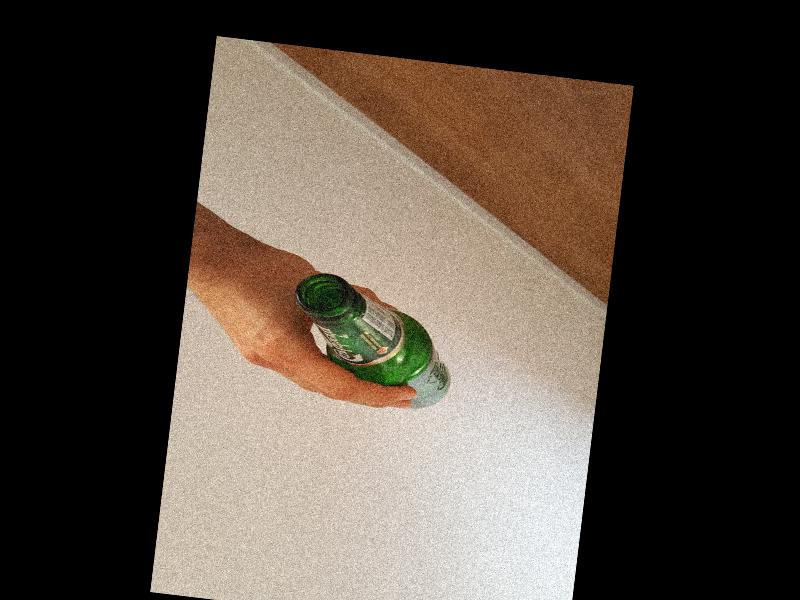Beer: (282, 267, 461, 411)
